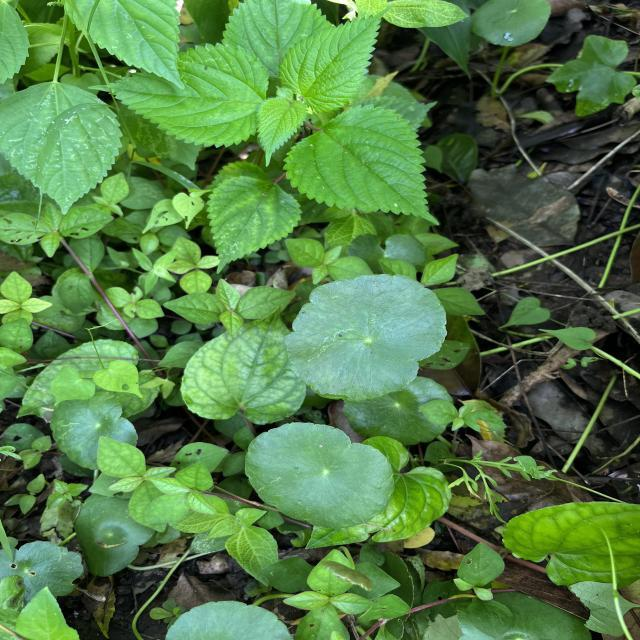Bacopa monnieri: (284, 271, 450, 404), (243, 421, 397, 530)
